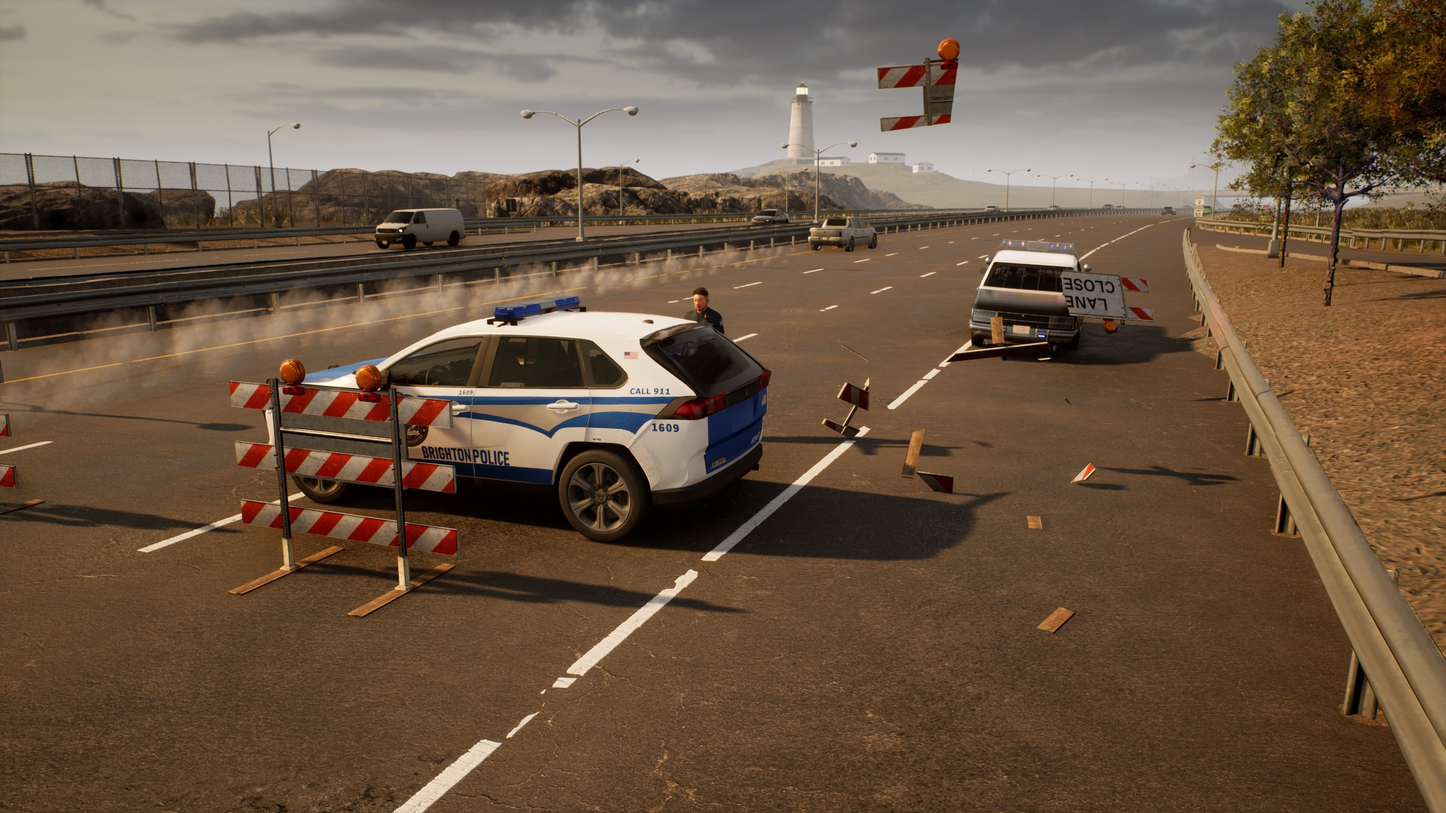Car: (267, 298, 788, 530), (949, 219, 1095, 358)
